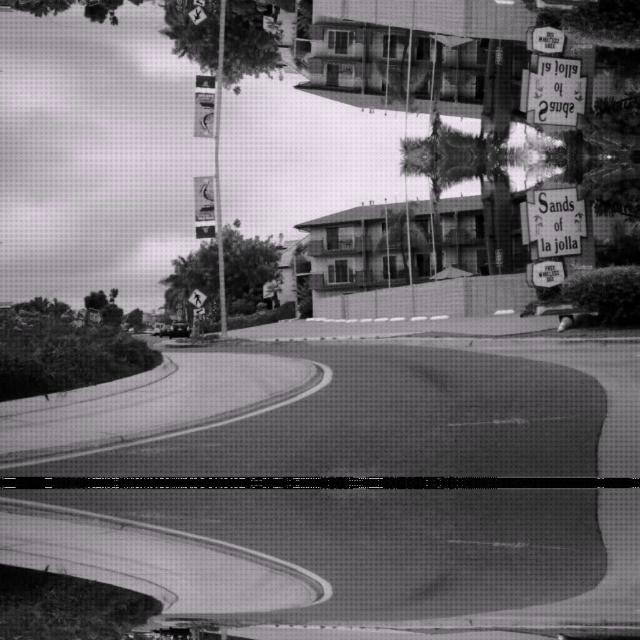pedestrianCrossing: (187, 286, 207, 308), (187, 4, 207, 26)
